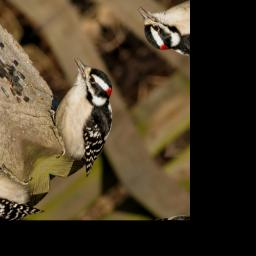Woodpecker: (14, 48, 149, 186)
